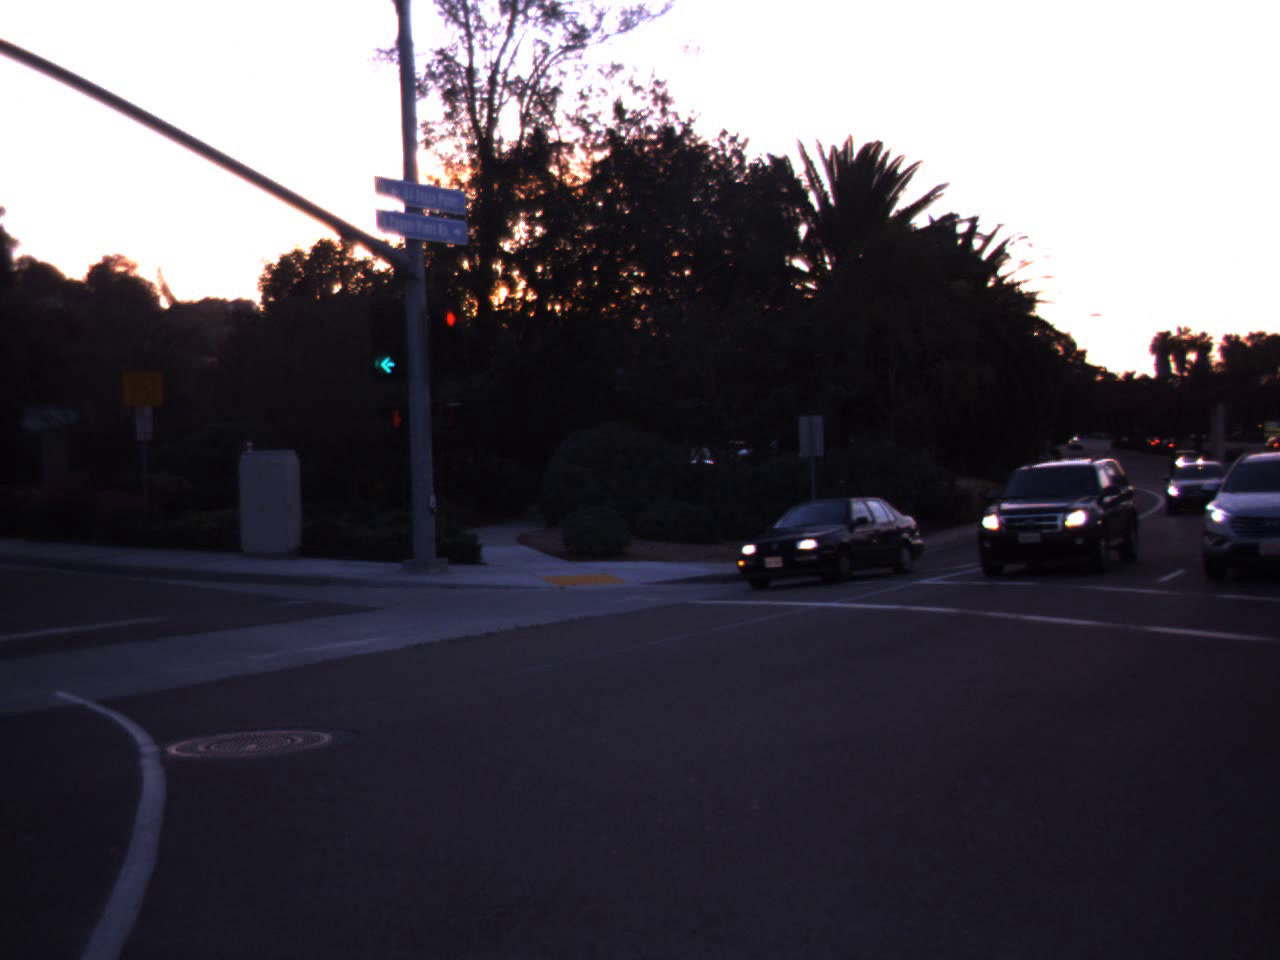go: (358, 295, 415, 380)
